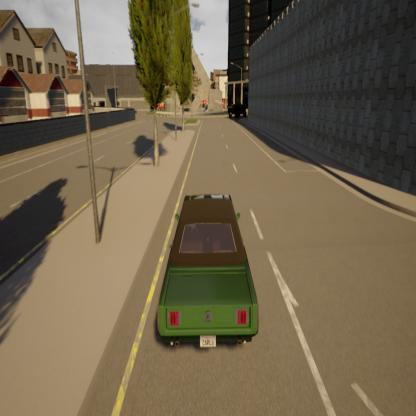Cars: (151, 187, 264, 351), (228, 98, 248, 122)
